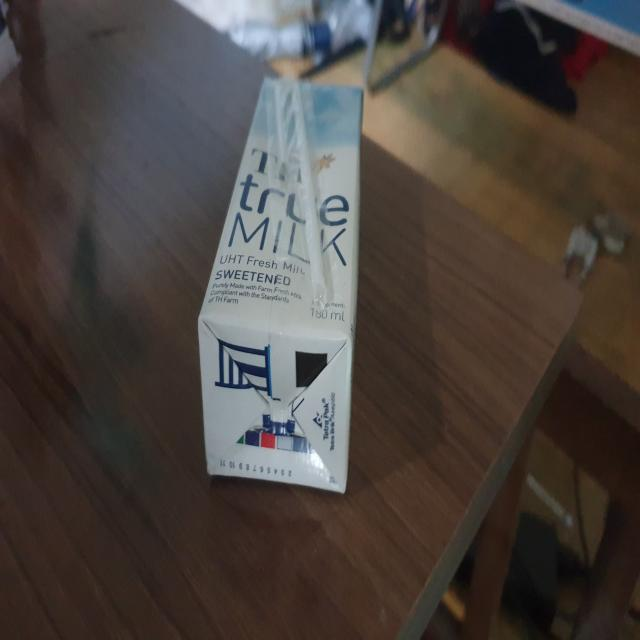TH: (198, 74, 363, 499)
